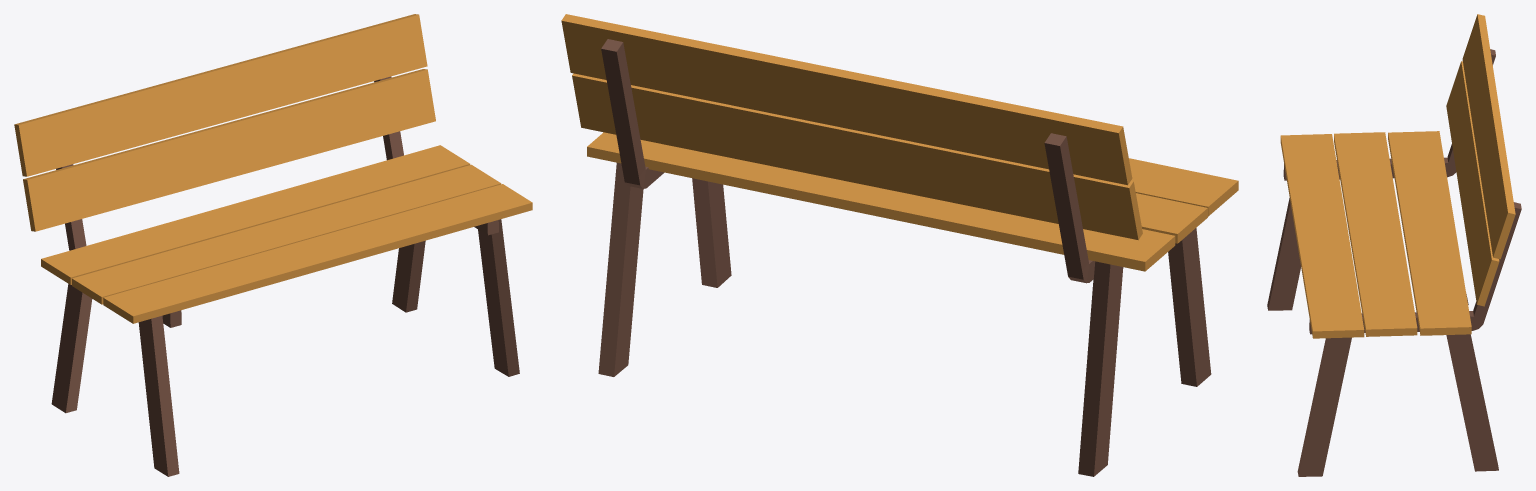
File: node_001_intact.glb
3 renders of one model, left to right at view 1: azimuth 30°, elevation 25°; view 2: azimuth 150°, elevation 25°; view 3: azimuth 270°, elevation 25°, orthographic. The views are drawn at different scales.
Parts seen in each view (by area): view 1: Node.003; view 2: Node.003; view 3: Node.003.
Boxes of the visible parts, bbox=[...] form: Node.003: bbox=[14, 14, 532, 476]; Node.003: bbox=[561, 14, 1238, 476]; Node.003: bbox=[1267, 14, 1521, 476].
Bounding box in the file's own units: 2.57 × 1.62 × 1.37.
